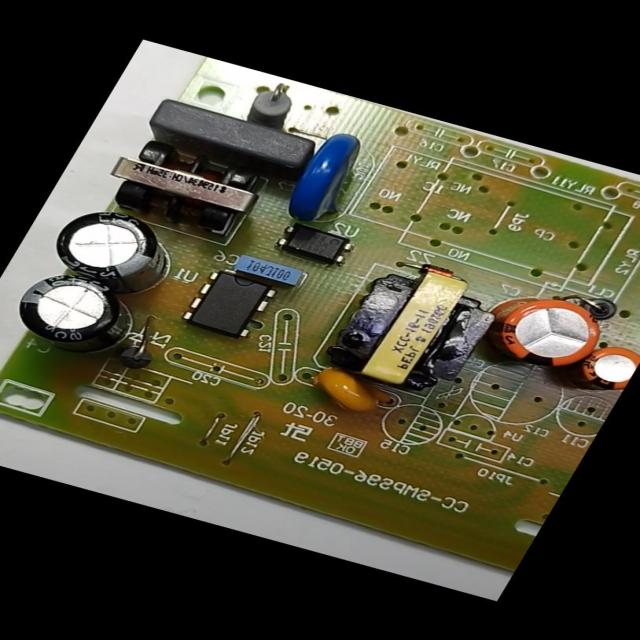Cap1: (460, 276, 626, 384)
Cap2: (568, 335, 640, 398)
Cap3: (30, 198, 199, 307)
Cap4: (0, 260, 167, 374)
MOSFET: (172, 258, 290, 348)
Mov: (270, 120, 394, 236)
Resistor: (230, 72, 312, 140)
Transformer: (308, 245, 526, 411), (86, 130, 284, 248)
